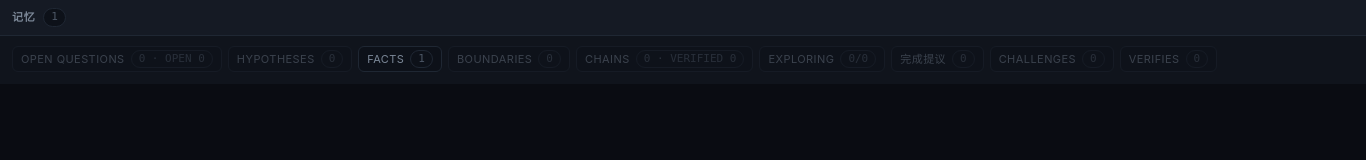
Test: MemoryPanel › collapses a category when its chip is clicked again
The width and height of the screenshot is (1366, 160).
What coordinates should you click on to do the following:
click the button with aria-label "memory group facts"
I would click on:
 (400, 59)
Its box is left=358, top=46, right=442, bottom=72.
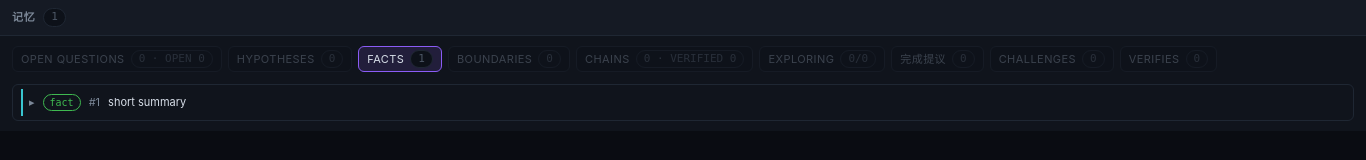
Now the button with aria-label "memory group facts" is expanded
What coordinates should you click on to do the following:
click the button with aria-label "memory group facts"
I would click on:
 (400, 59)
Its box is left=358, top=46, right=442, bottom=72.
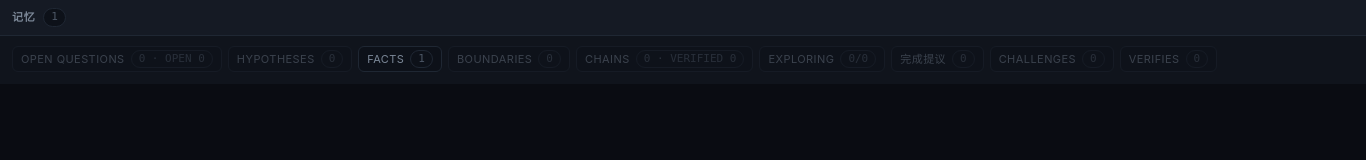
Now the button with aria-label "memory group facts" is collapsed, box left=358, top=46, right=442, bottom=72
Now the button "short summary" is gone
